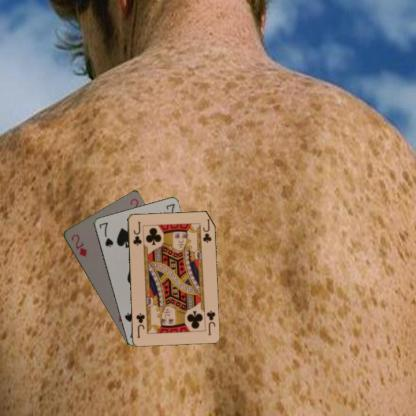2d: (69, 232, 88, 258)
7s: (96, 219, 114, 249)
Jc: (130, 219, 143, 246), (204, 308, 216, 336)
